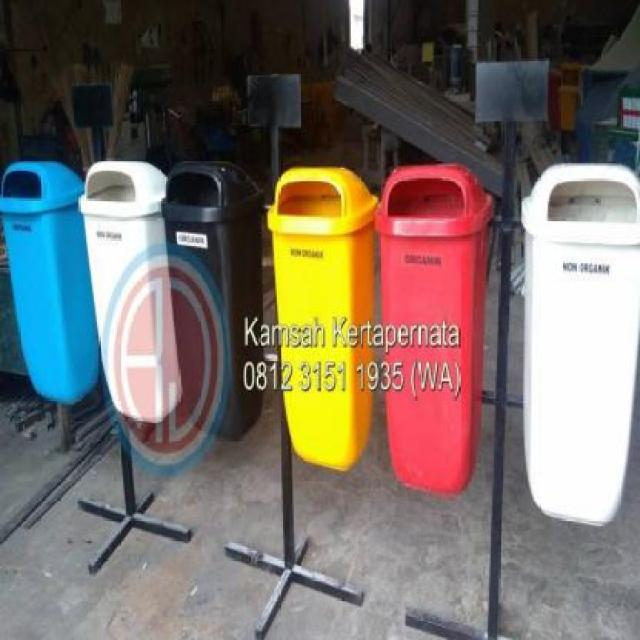garbage container: (512, 157, 639, 548), (378, 148, 500, 514), (262, 159, 378, 501), (85, 152, 170, 445), (0, 152, 94, 410)
